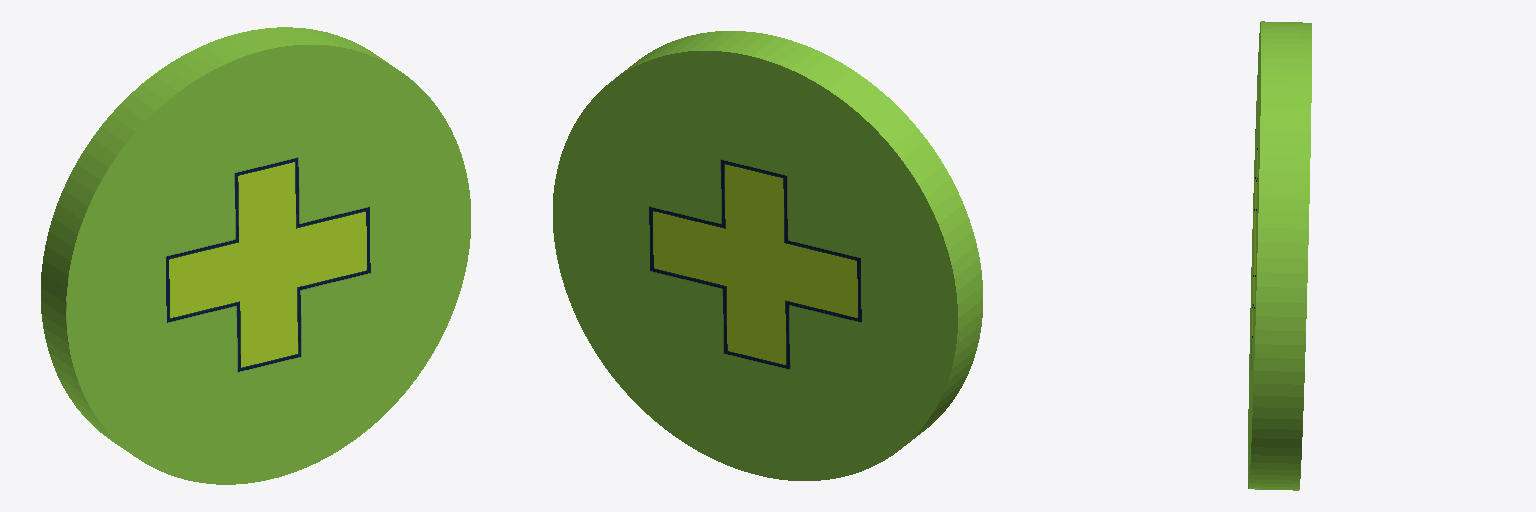
3 renders of one model, left to right at view 1: azimuth 30°, elevation 25°; view 2: azimuth 150°, elevation 25°; view 3: azimuth 270°, elevation 25°, orthographic.
Parts seen in each view (by area): view 1: 円柱; view 2: 円柱; view 3: 円柱.
Boxes of the visible parts, x1,y1,x2,y2 form: 円柱: [41, 27, 470, 484]; 円柱: [553, 31, 982, 480]; 円柱: [1248, 21, 1311, 490].
Size of the model in its own units: 2 by 2 by 0.274.
Materials: 1 (1 with a texture image).